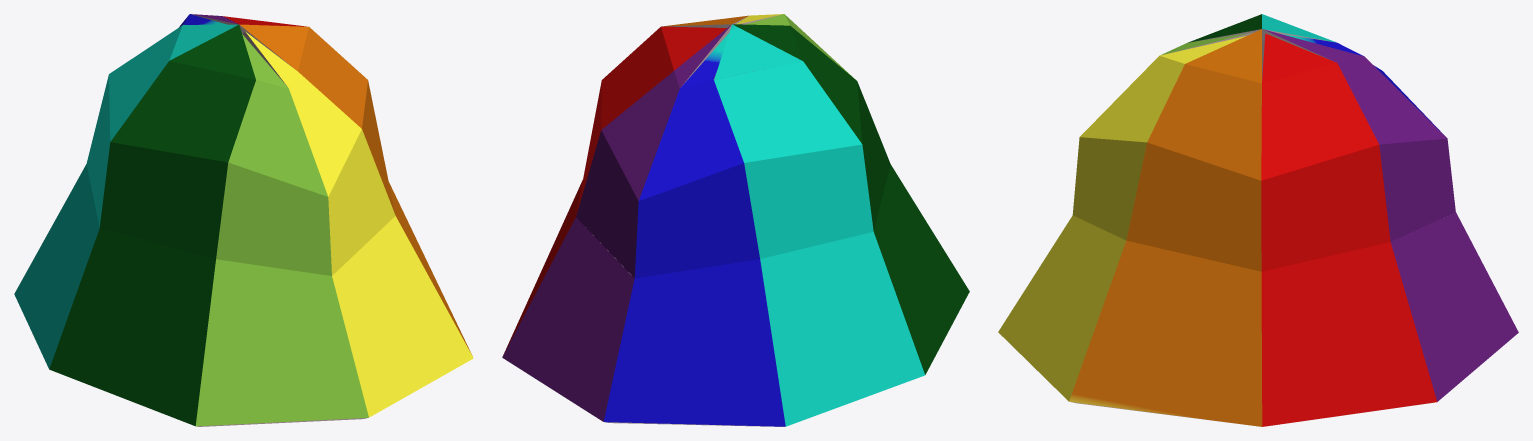
File: Bell.fbx
3 views of the same model, side by side, from view 1: azimuth 30°, elevation 25°; view 2: azimuth 150°, elevation 25°; view 3: azimuth 270°, elevation 25° (orthographic).
Parts seen in each view (by area): view 1: Plane.002; view 2: Plane.002; view 3: Plane.002.
Part boxes in pixels (<box>): Plane.002: <box>14,14,473,426</box>; Plane.002: <box>502,14,969,426</box>; Plane.002: <box>998,14,1518,426</box>.
Bounding box in the file's own units: 217 × 166 × 254.
